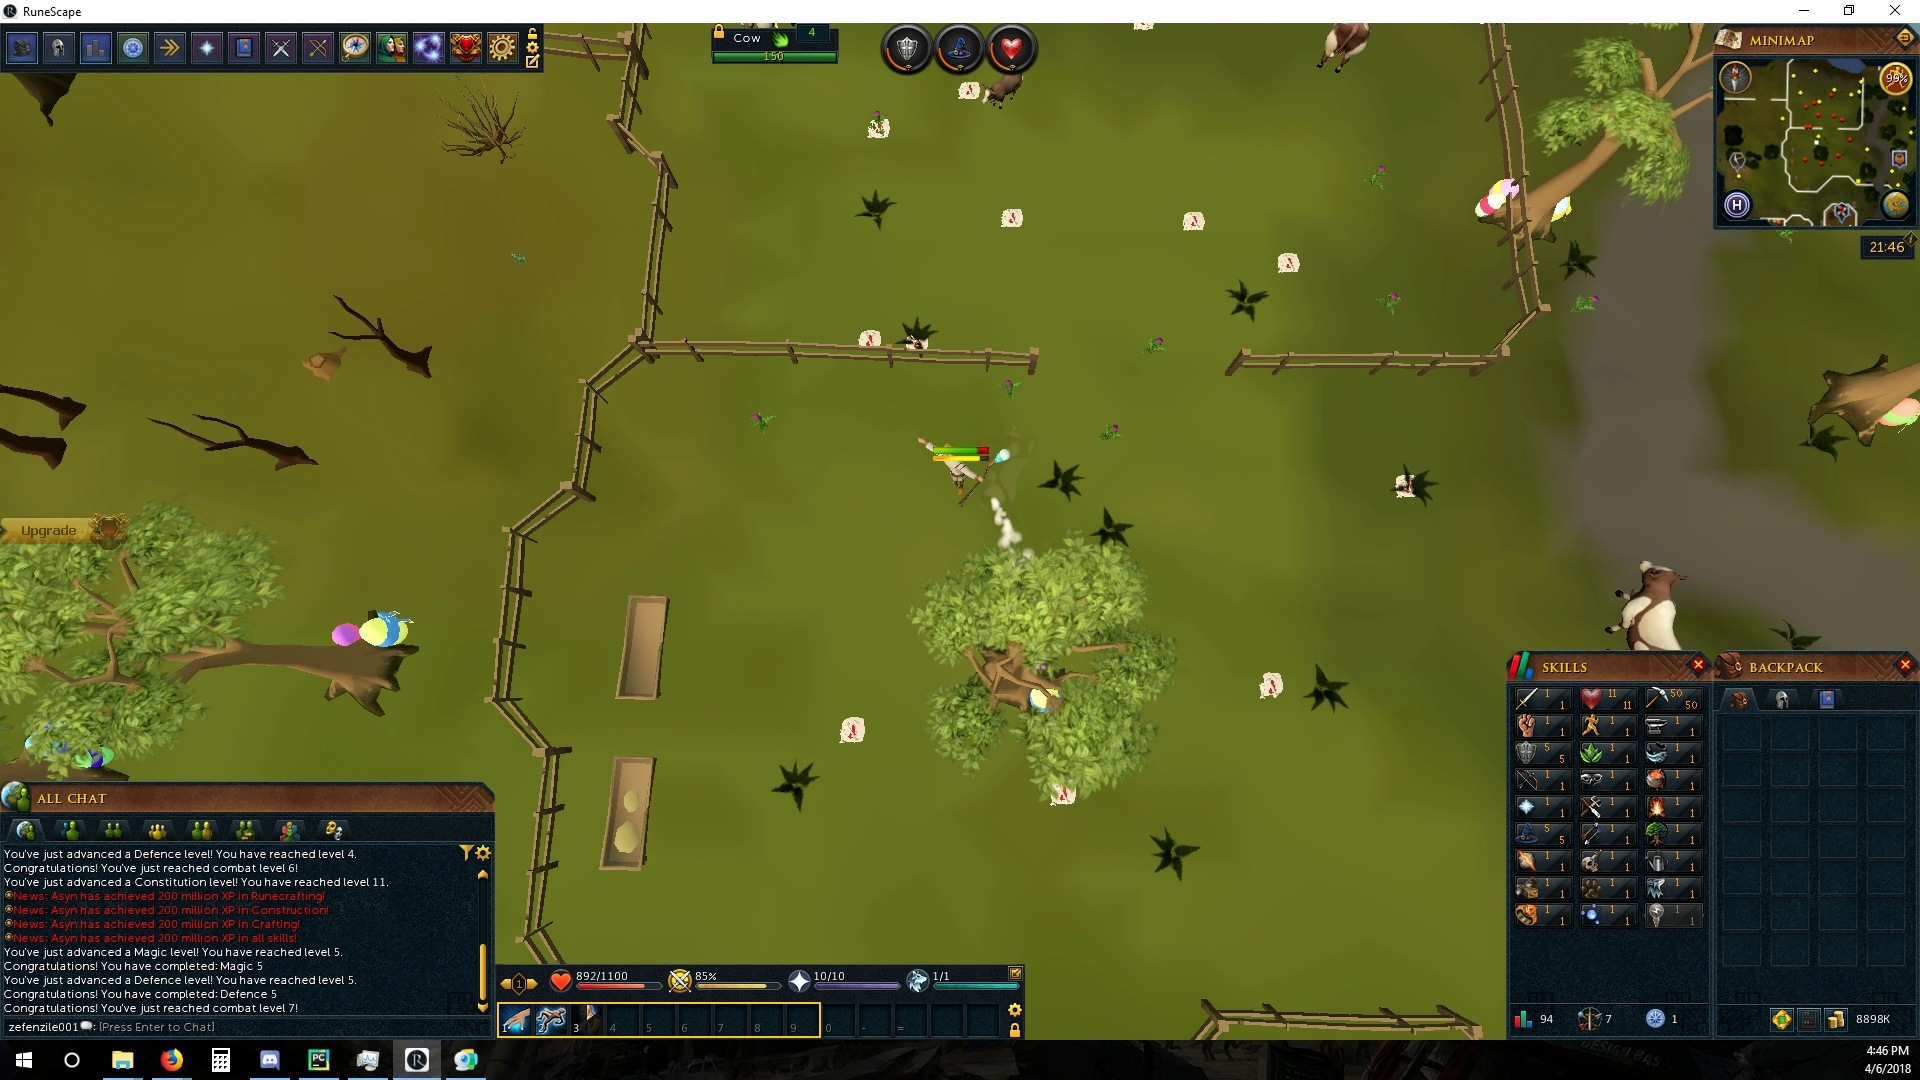calf: (977, 69, 1033, 112)
cow: (1604, 558, 1692, 650)
cow_drop: (1389, 469, 1423, 502), (837, 711, 869, 744), (1255, 670, 1287, 702), (992, 204, 1029, 231), (1042, 782, 1077, 808), (1178, 206, 1207, 236), (862, 112, 891, 137), (953, 80, 982, 105), (855, 327, 884, 349), (1276, 253, 1302, 276)
